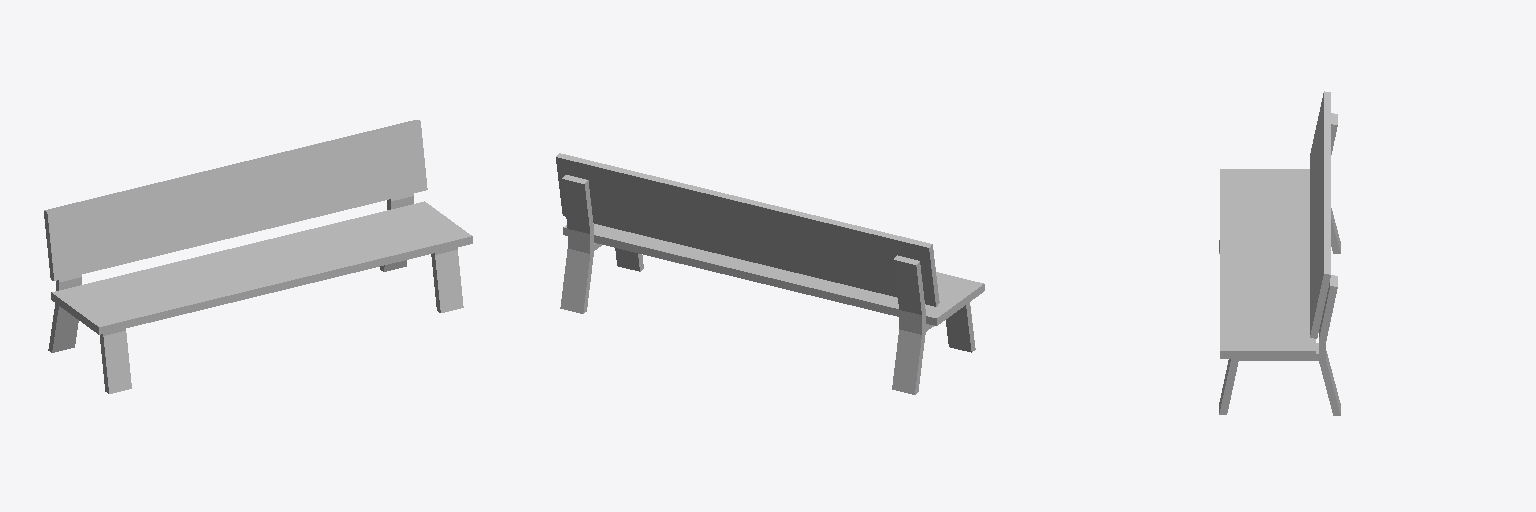
File: bench.obj
The picture shows the model from 3 angles: view 1: azimuth 30°, elevation 25°; view 2: azimuth 150°, elevation 25°; view 3: azimuth 270°, elevation 25°; orthographic projection.
Visible parts, largest first — view 1: bench; view 2: bench; view 3: bench.
Part boxes in pixels (x1,y1,x2,y2): bench: (44,120,472,393); bench: (556,153,984,394); bench: (1219,91,1340,415).
Bounding box in the file's own units: 2.69 × 1.01 × 0.7613.